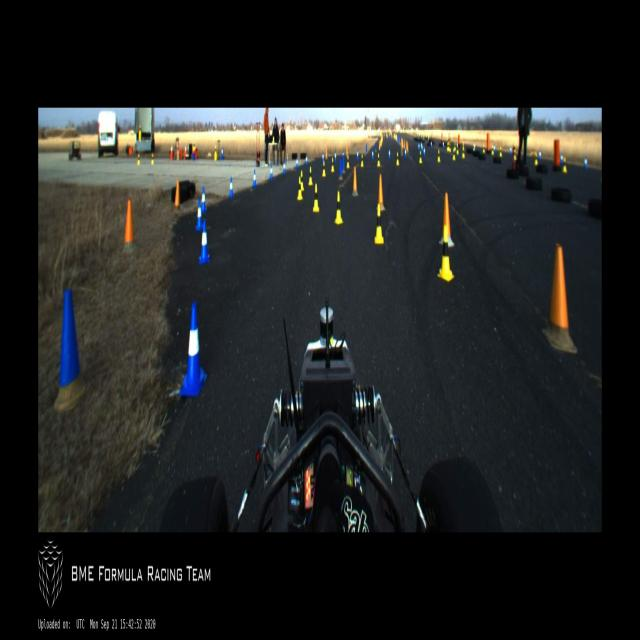blue_cone: (179, 302, 208, 400), (198, 220, 210, 266), (195, 197, 203, 234), (200, 187, 207, 215), (229, 177, 234, 198), (269, 164, 274, 182), (253, 170, 257, 188), (282, 159, 286, 175), (282, 160, 286, 175), (538, 148, 542, 160), (560, 153, 563, 164), (388, 148, 391, 159), (584, 158, 587, 168), (356, 150, 359, 160), (371, 149, 374, 159), (404, 148, 407, 157), (221, 147, 223, 159), (296, 157, 298, 169), (423, 145, 425, 156), (306, 156, 308, 166), (510, 144, 512, 154), (322, 153, 324, 162), (334, 152, 336, 160), (418, 142, 420, 150), (493, 144, 495, 151), (342, 152, 344, 158), (443, 140, 444, 148), (431, 140, 432, 147), (421, 142, 422, 148)
orange_cone: (170, 141, 173, 152), (184, 144, 187, 154)
unknown_cone: (54, 285, 88, 416), (543, 243, 578, 355), (438, 191, 455, 247), (122, 200, 136, 256), (376, 173, 385, 211), (174, 179, 180, 213), (352, 167, 358, 196), (339, 157, 342, 178), (342, 158, 345, 172), (325, 146, 328, 159), (366, 143, 367, 153)
yellow_cone: (438, 226, 455, 282), (334, 191, 344, 224), (375, 205, 383, 243), (313, 183, 319, 212), (298, 176, 302, 199), (300, 170, 304, 192), (308, 168, 313, 185), (322, 161, 326, 177), (330, 157, 334, 172), (534, 152, 538, 166), (563, 158, 567, 172), (151, 152, 154, 165), (346, 155, 349, 168), (377, 154, 380, 166), (396, 153, 399, 165), (419, 151, 422, 163), (499, 145, 502, 157), (214, 146, 217, 156), (482, 144, 485, 154), (491, 144, 494, 154), (448, 142, 451, 152), (138, 153, 140, 165), (361, 155, 363, 167), (438, 150, 440, 162), (462, 146, 464, 158), (456, 146, 459, 154), (453, 149, 455, 160), (514, 149, 516, 160), (454, 142, 456, 152), (447, 142, 449, 151), (193, 142, 195, 150), (139, 126, 141, 132)
